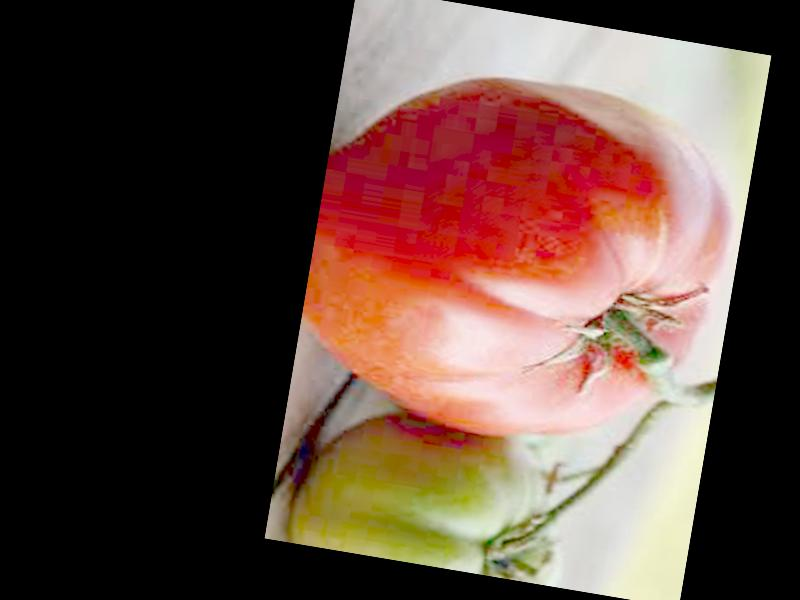Tomato: (287, 46, 753, 467)
